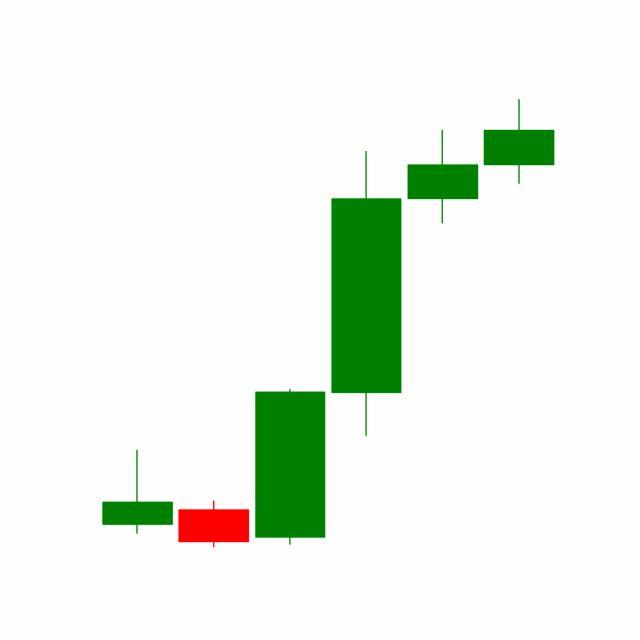Advance Block: (252, 125, 482, 548)
